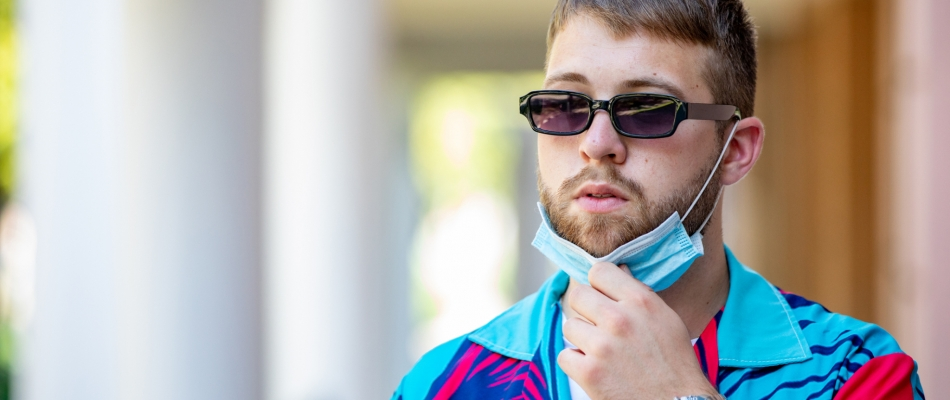with_incorrect_mask: (539, 67, 703, 285)
